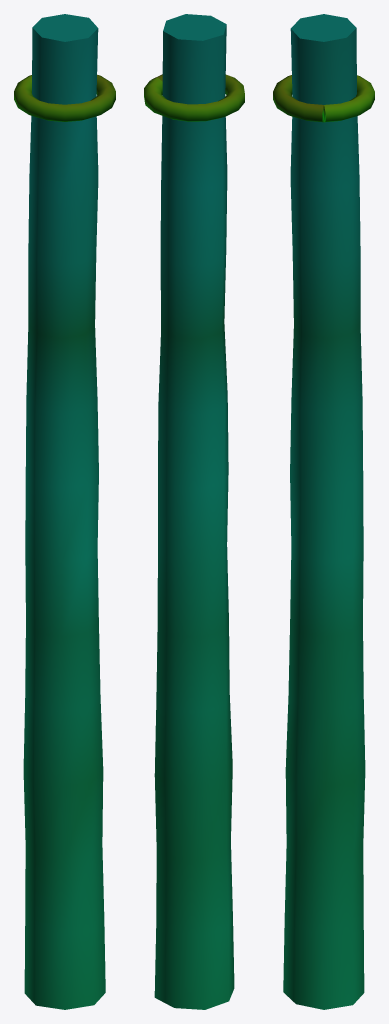
The model's file is mooring_post.glb.
3 views of the same model, side by side, from view 1: azimuth 90°, elevation 25°; view 2: azimuth 150°, elevation 25°; view 3: azimuth 270°, elevation 25° (orthographic).
Parts seen in each view (by area): view 1: mooring_post; view 2: mooring_post; view 3: mooring_post.
Boxes of the visible parts, box(x1,y1,x2,y2) form: mooring_post: box(14, 14, 115, 1009); mooring_post: box(144, 14, 244, 1009); mooring_post: box(273, 14, 374, 1009).
Size of what is drawn, in the model's own units: 0.4772 by 5 by 0.4779.
